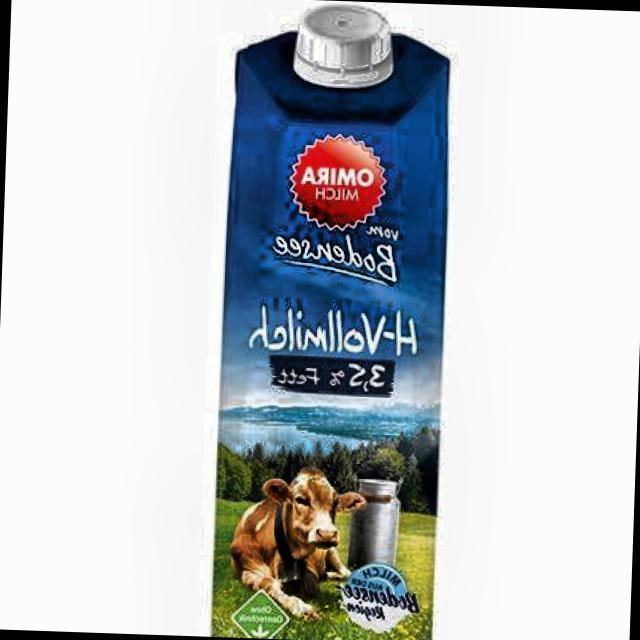cardboard: (208, 1, 456, 640)
